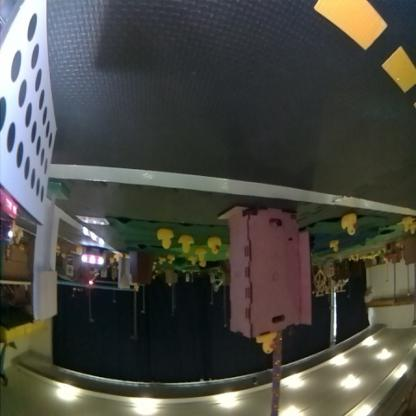Duckie: (256, 335, 276, 356), (342, 215, 358, 237), (157, 228, 173, 249), (180, 238, 194, 252), (210, 238, 221, 254), (196, 249, 206, 260), (405, 220, 412, 232), (333, 242, 339, 254), (410, 223, 415, 236), (190, 258, 196, 266), (160, 258, 166, 266), (170, 258, 174, 264)
Duckiebot: (1, 51, 57, 232), (82, 248, 108, 270)
